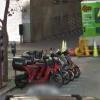Motorcycle: (20, 43, 89, 91)
